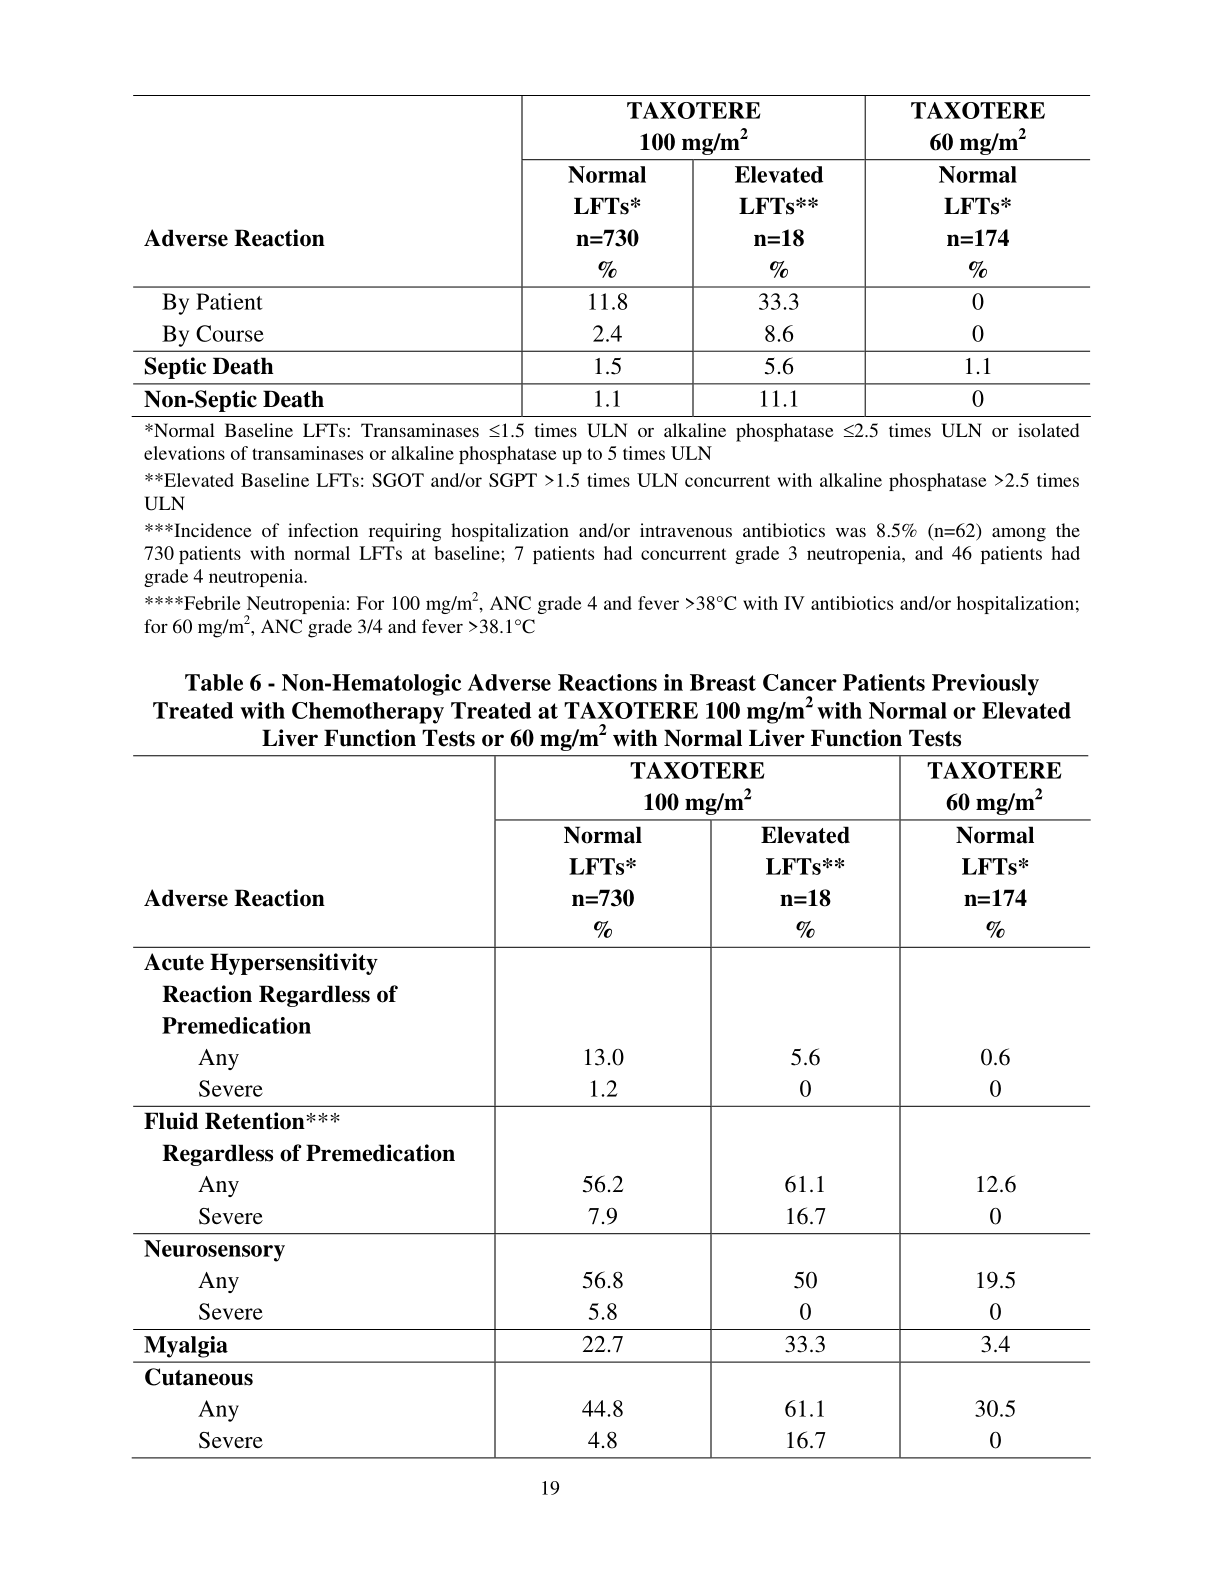partial_lined_merged_cells: (130, 753, 1093, 1461), (129, 94, 1092, 418)
